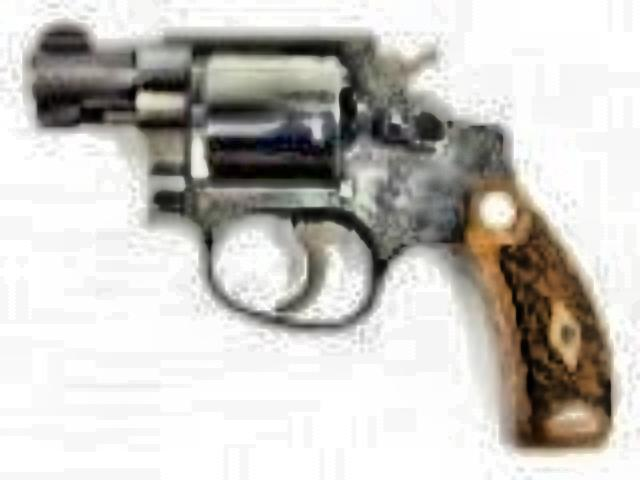pistol: (36, 12, 620, 448)
